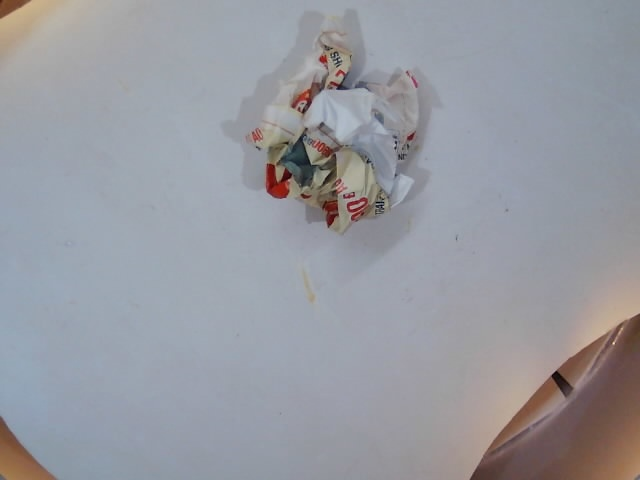paper: (226, 10, 439, 257)
